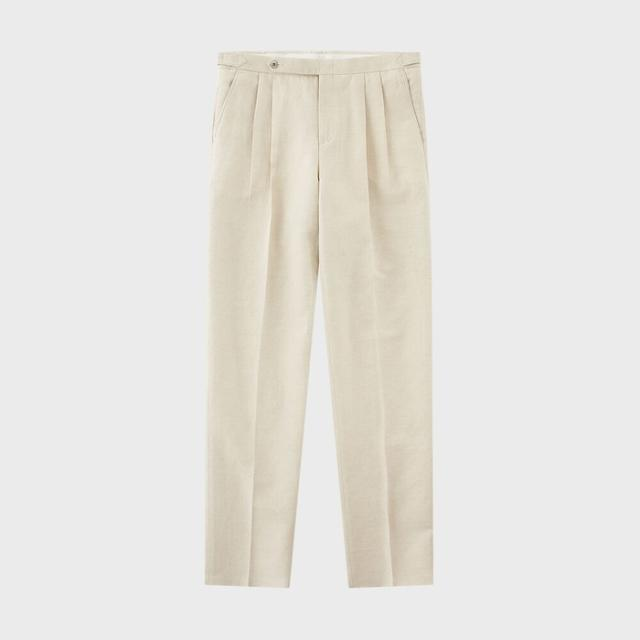long-pants: (204, 53, 435, 592)
